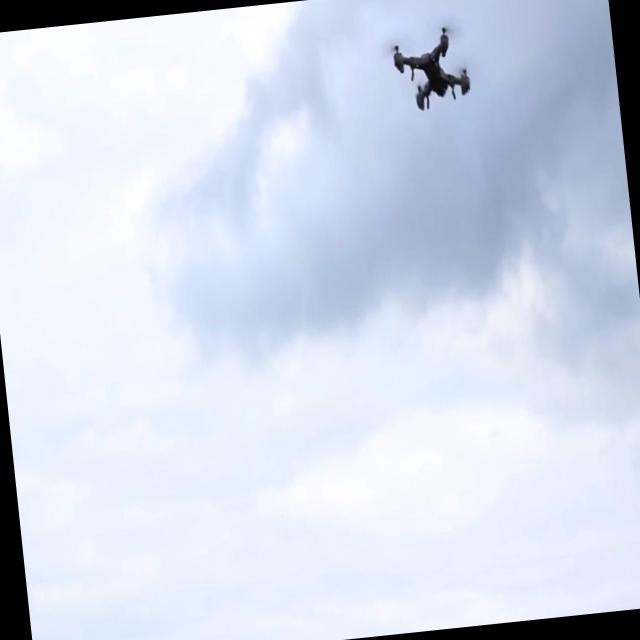drone: (388, 22, 474, 118)
